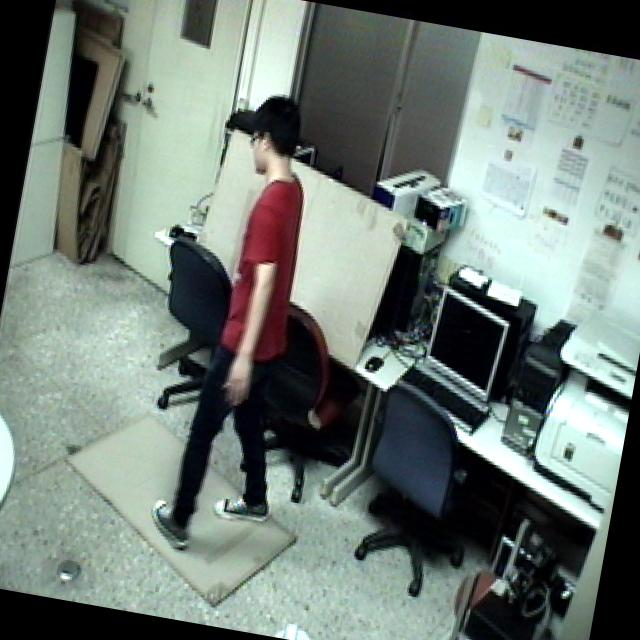stand: (131, 74, 354, 572)
